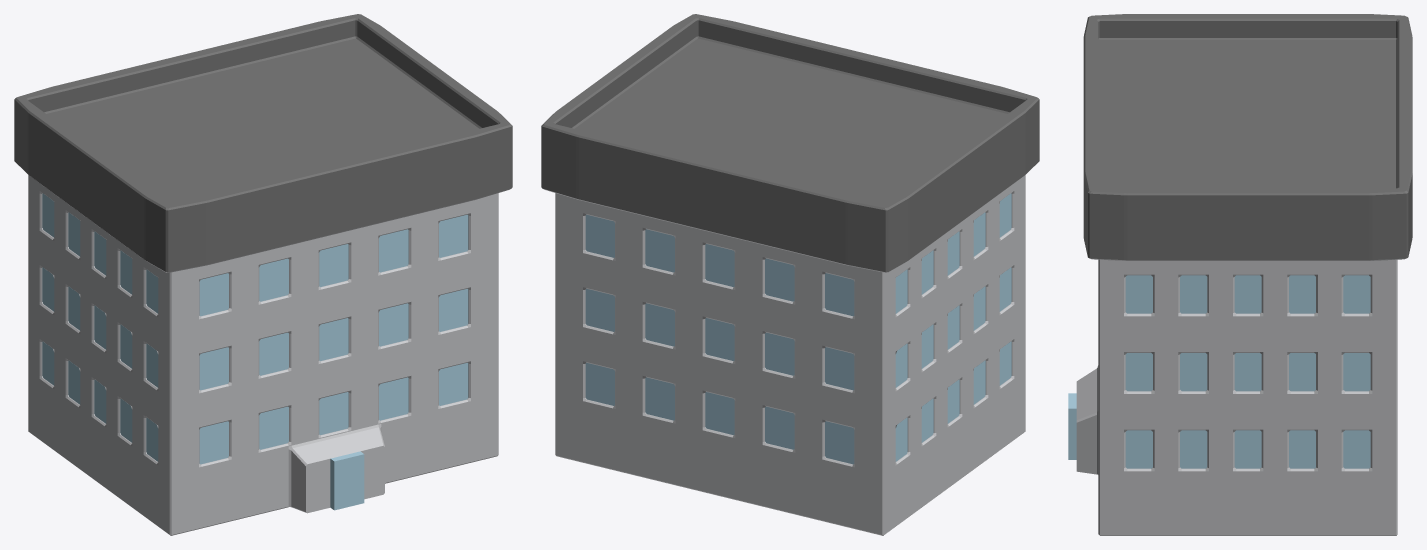
File: Building_007.fbx
3 views of the same model, side by side, from view 1: azimuth 30°, elevation 25°; view 2: azimuth 150°, elevation 25°; view 3: azimuth 270°, elevation 25° (orthographic). The views are drawn at different scales.
Parts seen in each view (by area): view 1: Building_007; view 2: Building_007; view 3: Building_007.
Part boxes in pixels (x1,y1,x2,y2): Building_007: (14, 14, 512, 535); Building_007: (541, 14, 1039, 535); Building_007: (1068, 14, 1412, 535).
Bounding box in the file's own units: 3901 × 3515 × 3140.
